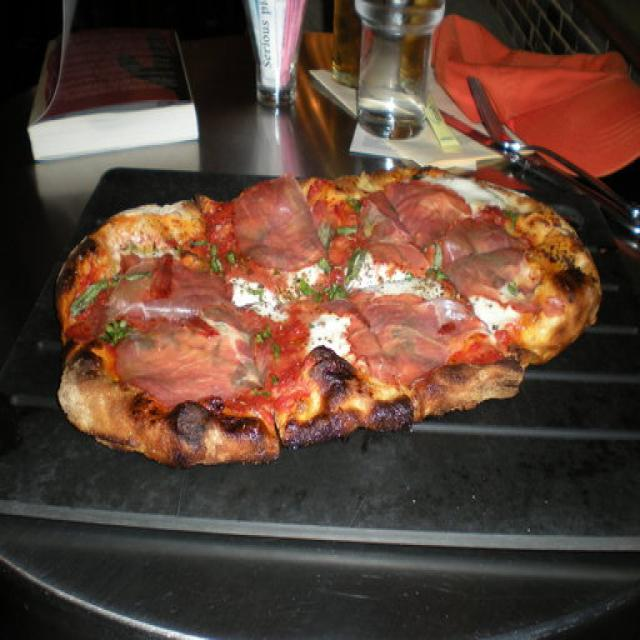Ham: (112, 260, 264, 398), (358, 181, 518, 284), (343, 295, 480, 368), (231, 180, 328, 272)
Pizza: (56, 168, 601, 470)
